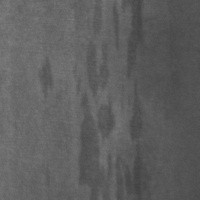inclusion: (73, 73, 145, 199), (111, 1, 148, 81), (83, 1, 110, 97), (37, 55, 56, 107)
